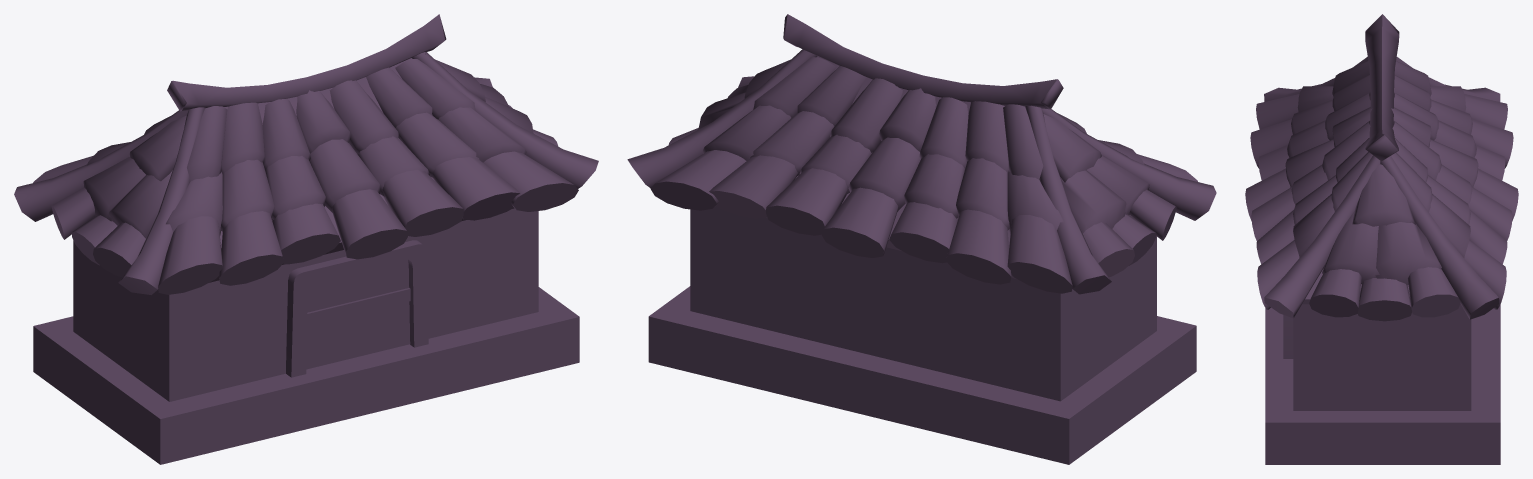
Rendered from Env_STRU_FangZi1_Mesh.FBX.
The picture shows the model from 3 angles, left to right: view 1: azimuth 30°, elevation 25°; view 2: azimuth 150°, elevation 25°; view 3: azimuth 270°, elevation 25°; orthographic projection. The views are drawn at different scales.
Visible parts, largest first — view 1: Env_STRU_FangZi1_Mesh; view 2: Env_STRU_FangZi1_Mesh; view 3: Env_STRU_FangZi1_Mesh.
Boxes of the visible parts, x1,y1,x2,y2 form: Env_STRU_FangZi1_Mesh: (14,14,598,464); Env_STRU_FangZi1_Mesh: (627,14,1216,464); Env_STRU_FangZi1_Mesh: (1245,14,1518,464).
Size of the model in its own units: 668 by 429 by 359.
